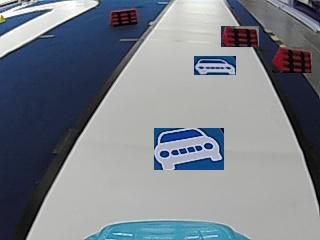bomb: (110, 7, 137, 25)
